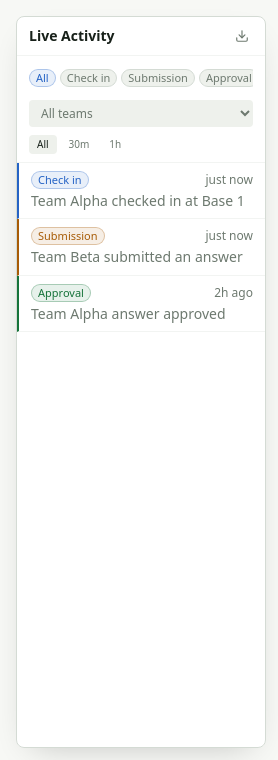
it: ActivityFeed › resets type filter when "All" pill is clicked
Expected: the text "Team Alpha checked in at Base 1" is shown, [31,191,253,210]
Note: Filter to check_in only
Click the button with test id "filter-check_in". click: (88, 76)
box: [60,64,117,88]
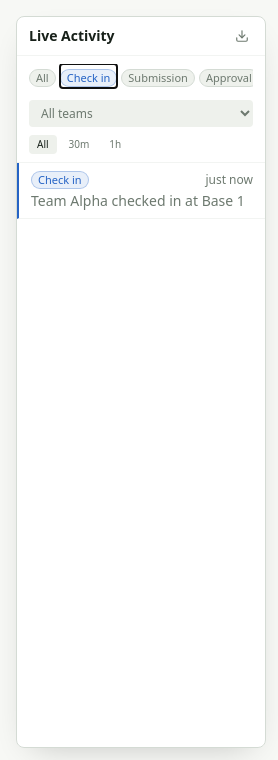
Expected: the text "Team Beta submitted an answer" is gone
Click the button with test id "filter-all". click: (42, 76)
box: [29,64,56,88]
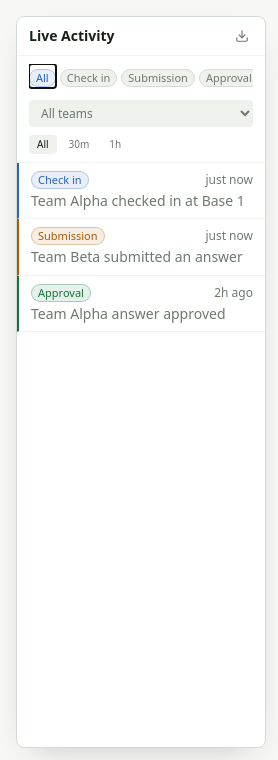
Expected: the text "Team Alpha checked in at Base 1" is shown, [31,191,253,210]
Expected: the text "Team Beta submitted an answer" is shown, [31,247,253,267]
